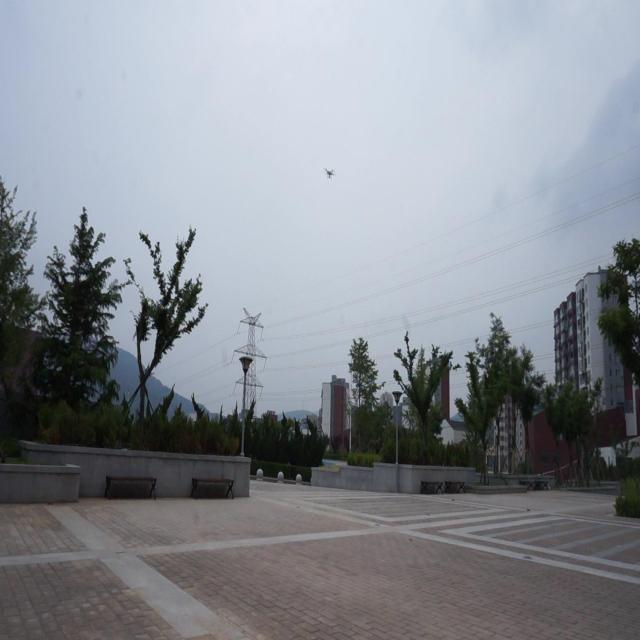drone: (323, 168, 336, 180)
